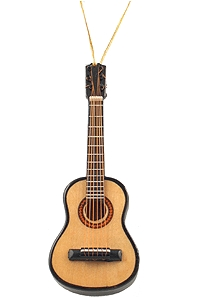guitar: (48, 61, 142, 297)
